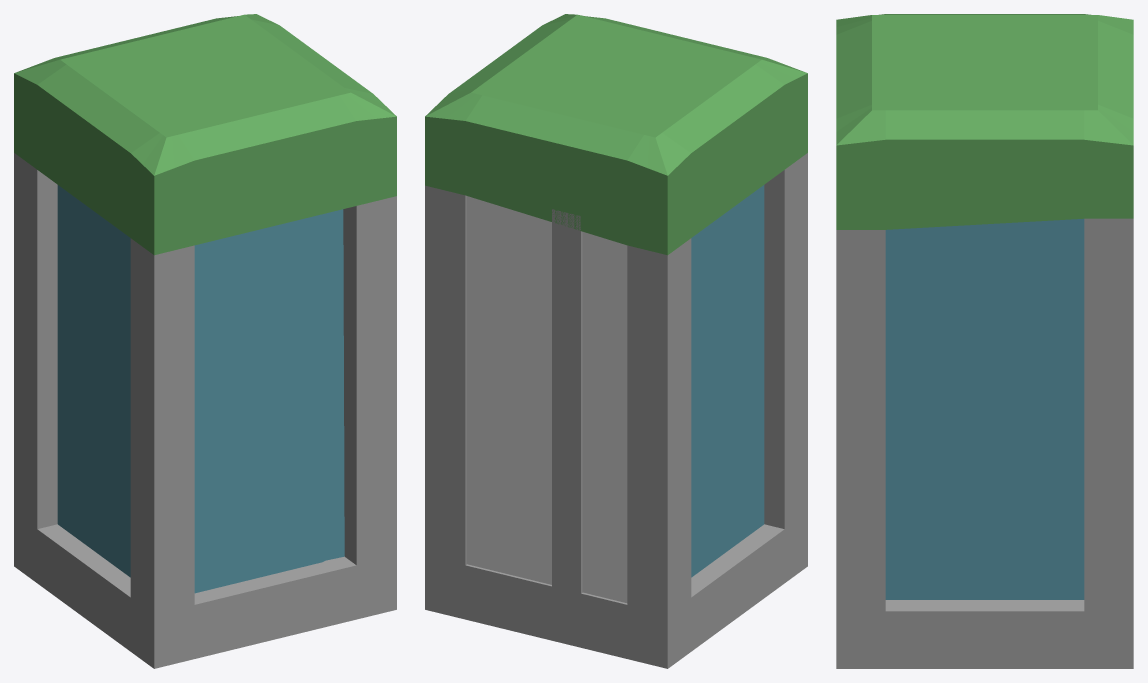
File: 電話ボックス.fbx
3 renders of one model, left to right at view 1: azimuth 30°, elevation 25°; view 2: azimuth 150°, elevation 25°; view 3: azimuth 270°, elevation 25°, orthographic. The views are drawn at different scales.
Visible parts, largest first — view 1: 立方体; view 2: 立方体, 立方体.002, 立方体.003; view 3: 立方体.
Boxes of the visible parts, x1,y1,x2,y2 form: 立方体: (14,14,396,668); 立方体: (425,14,807,668); 立方体.002: (467,196,551,584); 立方体.003: (582,232,627,602); 立方体: (836,14,1133,668).
Bounding box in the file's own units: 521 × 1049 × 521.
